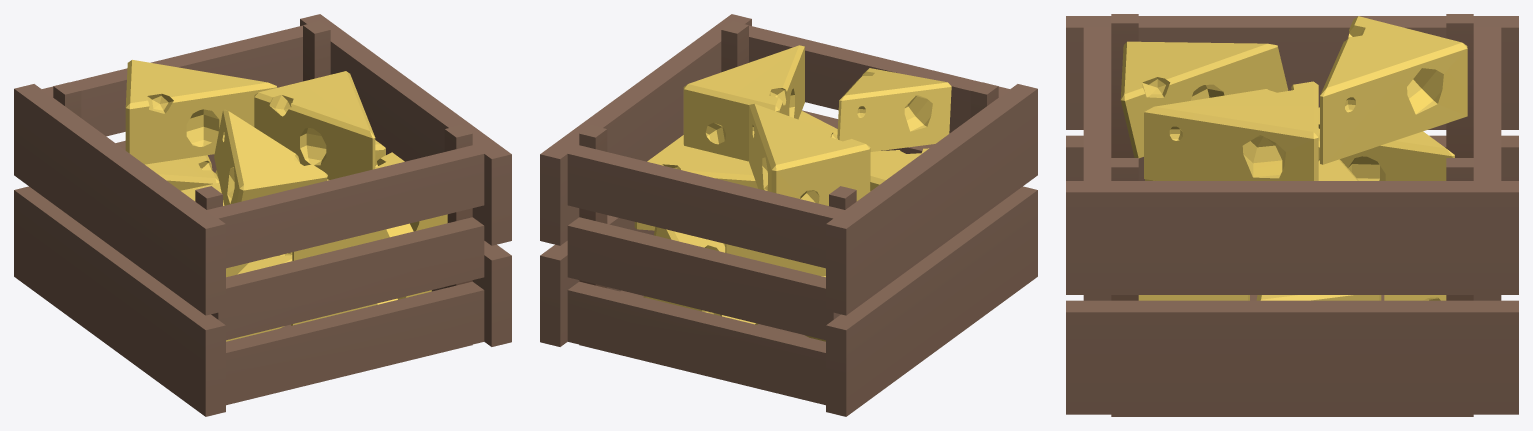
File: box-with-cheese.glb
The picture shows the model from 3 angles, left to right: view 1: azimuth 30°, elevation 25°; view 2: azimuth 150°, elevation 25°; view 3: azimuth 270°, elevation 25°; orthographic projection. The views are drawn at different scales.
Visible parts, largest first — view 1: BoxWithCheese.001; view 2: BoxWithCheese.001; view 3: BoxWithCheese.001.
Part boxes in pixels (x1=…): BoxWithCheese.001: x1=14, y1=14, x2=511, y2=416; BoxWithCheese.001: x1=540, y1=14, x2=1037, y2=416; BoxWithCheese.001: x1=1066, y1=14, x2=1518, y2=416.
Size of the model in its own units: 0.5862 by 0.4195 by 0.6357.
1 material, 1 textured.
